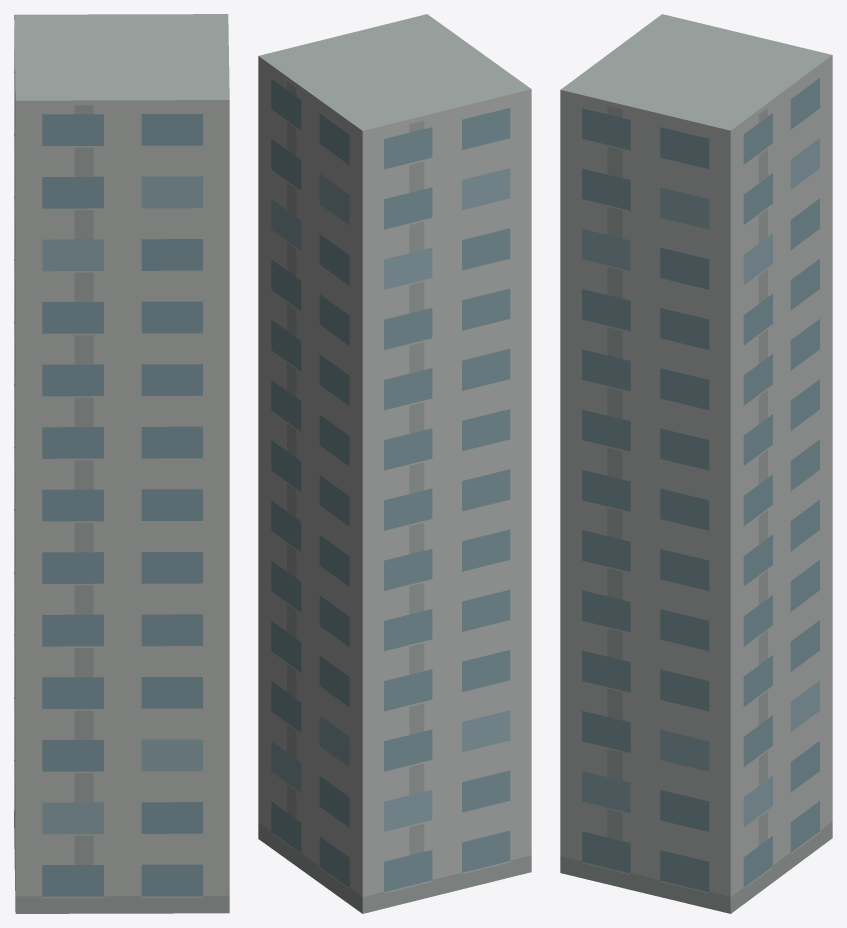
The model's file is residential-aad11785-b06c-4923-9cd2-971f82729662.glb.
3 renders of one model, left to right at view 1: azimuth 30°, elevation 25°; view 2: azimuth 150°, elevation 25°; view 3: azimuth 270°, elevation 25°, orthographic. The views are drawn at different scales.
Visible parts, largest first — view 1: residential-aad11785-b06c-4923-9cd2-971f82729662.tmp; view 2: residential-aad11785-b06c-4923-9cd2-971f82729662.tmp; view 3: residential-aad11785-b06c-4923-9cd2-971f82729662.tmp.
Boxes of the visible parts, <box> form: residential-aad11785-b06c-4923-9cd2-971f82729662.tmp: <box>14,14,229,913</box>; residential-aad11785-b06c-4923-9cd2-971f82729662.tmp: <box>258,14,531,913</box>; residential-aad11785-b06c-4923-9cd2-971f82729662.tmp: <box>560,14,832,913</box>.
Bounding box in the file's own units: 12.79 × 40 × 12.6.
